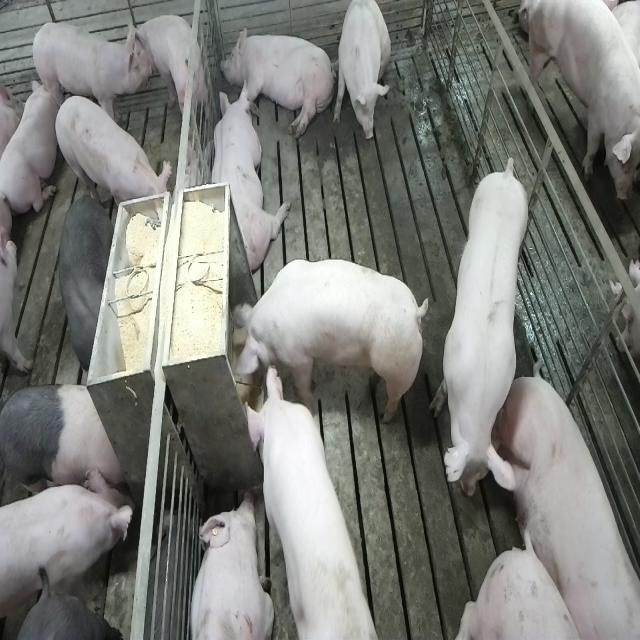Feeding: (244, 360, 376, 640), (226, 255, 432, 420)
Lateral_lying: (220, 24, 335, 144)
Sitting: (334, 0, 391, 150)
Standing: (432, 155, 529, 505), (522, 0, 638, 202), (0, 454, 136, 612), (54, 90, 170, 224), (30, 20, 152, 130), (0, 377, 123, 469), (58, 190, 114, 373), (128, 8, 206, 128)
Sternal_lying: (488, 362, 640, 640), (208, 85, 293, 274), (184, 492, 274, 640), (0, 70, 60, 218)
